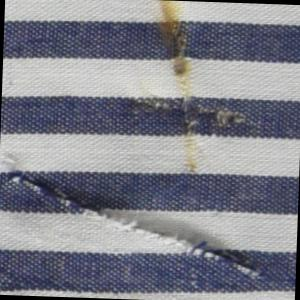Damage: (1, 166, 269, 281), (138, 98, 249, 131)
Oil Stain: (150, 1, 217, 173)
